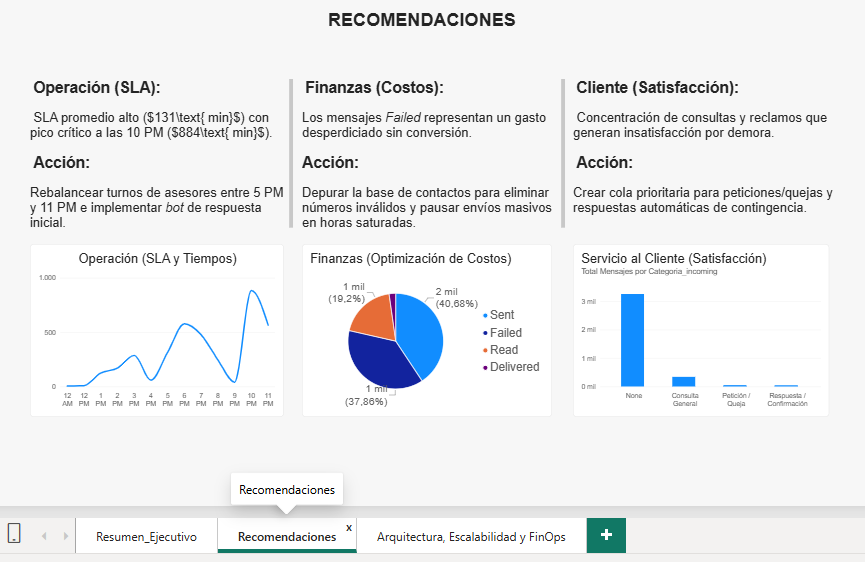

What the dashboard file says about the page in this screenshot:
{"tool":"powerbi","page":{"name":"Recomendaciones","canvas":[1920,1080],"ordinal":1},"visuals":[{"type":"lineChart","title":"Operación (SLA y Tiempos)","fields":{"Category":["db_messaging fact_mensajes.created_hour_label"],"Y":["Avg(db_messaging vw_sla_tiempos_respuesta.sla_promedio_minutos)"]},"box":[169.3,540.9,524.4,357.2],"z":0},{"type":"clusteredColumnChart","title":"Servicio al Cliente (Satisfacción)","fields":{"Category":["db_messaging fact_mensajes.Categoria_incoming"],"Y":["db_messaging fact_mensajes.Total Mensajes"]},"box":[1290.3,540.9,528.5,357.2],"z":1},{"type":"pieChart","title":"Finanzas (Optimización de Costos)","fields":{"Category":["db_messaging fact_mensajes.Status"],"Y":["db_messaging fact_mensajes.Total Mensajes"]},"box":[730.8,540.9,516.1,357.2],"z":2},{"type":"textbox","box":[169.3,200.3,543,309.7],"z":3},{"type":"textbox","box":[730.8,200.3,543,309.7],"z":5},{"type":"textbox","box":[1290.3,200.3,543,309.7],"z":7},{"type":"textbox","box":[784.5,57.8,437.7,86.7],"z":8}]}

Visuals, with their boxes on the page's 1920x1080 design canvas (x1, y1, x2, y2). These are canvas units, not pixel positions in the 865x562 screenshot, which may show the page scaled, cropped or inside an application window:
"Operación (SLA y Tiempos)" lineChart: select_region(169, 541, 694, 898)
"Servicio al Cliente (Satisfacción)" clusteredColumnChart: select_region(1290, 541, 1819, 898)
"Finanzas (Optimización de Costos)" pieChart: select_region(731, 541, 1247, 898)
textbox: select_region(169, 200, 712, 510)
textbox: select_region(731, 200, 1274, 510)
textbox: select_region(1290, 200, 1833, 510)
textbox: select_region(784, 58, 1222, 144)
